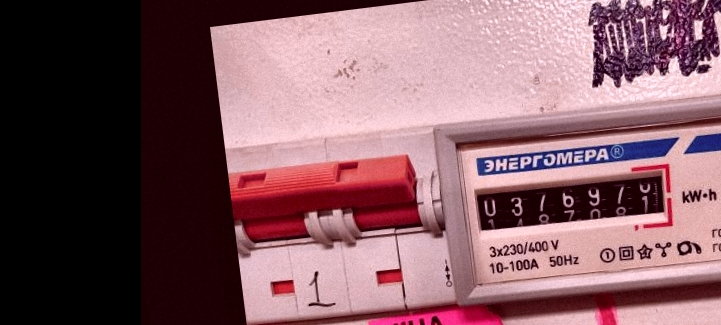0: (480, 193, 497, 217)
1: (638, 192, 652, 214)
3: (509, 194, 525, 216)
6: (559, 184, 576, 208)
7: (533, 188, 551, 213), (611, 180, 628, 205)
9: (585, 182, 601, 206)
screen: (464, 151, 681, 252)
